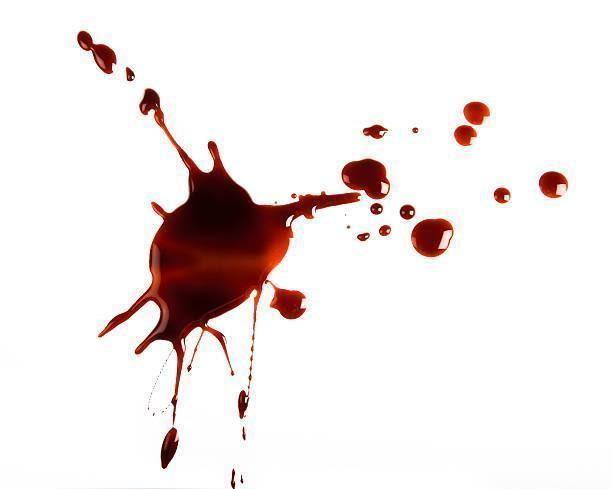Fire: (98, 88, 360, 468), (342, 159, 391, 199), (345, 202, 393, 242), (77, 31, 116, 74), (412, 219, 455, 256), (268, 280, 306, 320), (540, 171, 568, 198), (464, 101, 491, 124), (456, 125, 478, 146), (364, 124, 389, 138), (495, 187, 512, 204), (455, 125, 477, 136), (401, 204, 416, 220), (410, 122, 423, 134), (126, 67, 135, 80)
